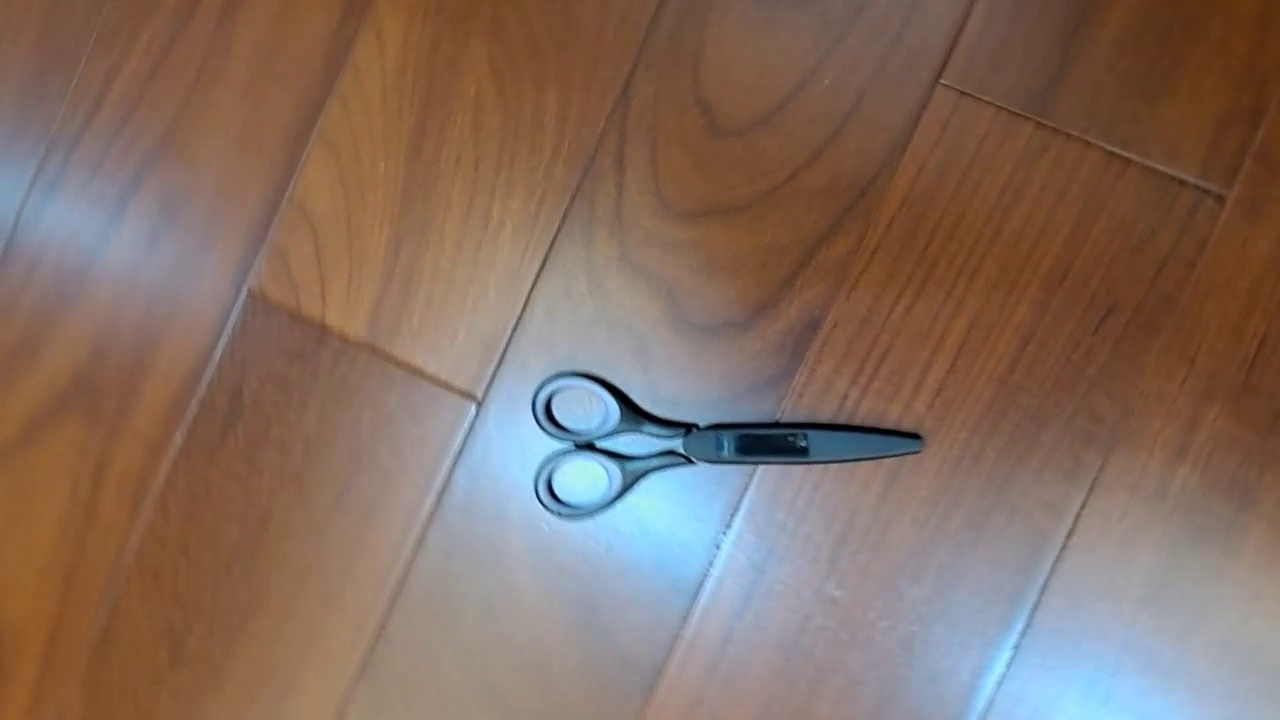scissors: (531, 370, 926, 522)
